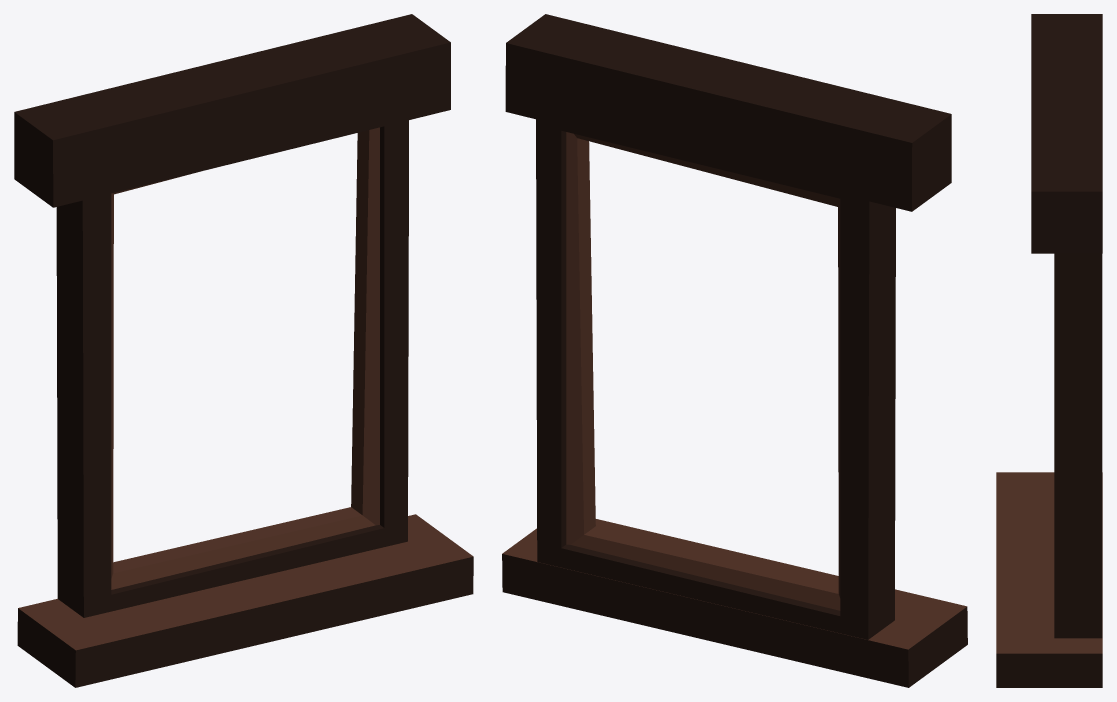
File: Window 1x2 V2 Frame.glb
3 views of the same model, side by side, from view 1: azimuth 30°, elevation 25°; view 2: azimuth 150°, elevation 25°; view 3: azimuth 270°, elevation 25° (orthographic). The views are drawn at different scales.
Visible parts, largest first — view 1: Window 1x2 V2 Frame; view 2: Window 1x2 V2 Frame; view 3: Window 1x2 V2 Frame.
Boxes of the visible parts, x1,y1,x2,y2 form: Window 1x2 V2 Frame: [14, 14, 473, 687]; Window 1x2 V2 Frame: [502, 14, 967, 687]; Window 1x2 V2 Frame: [996, 14, 1102, 687].
Bounding box in the file's own units: 1.42 × 1.82 × 0.3537.
Materials: 1 (1 with a texture image).
